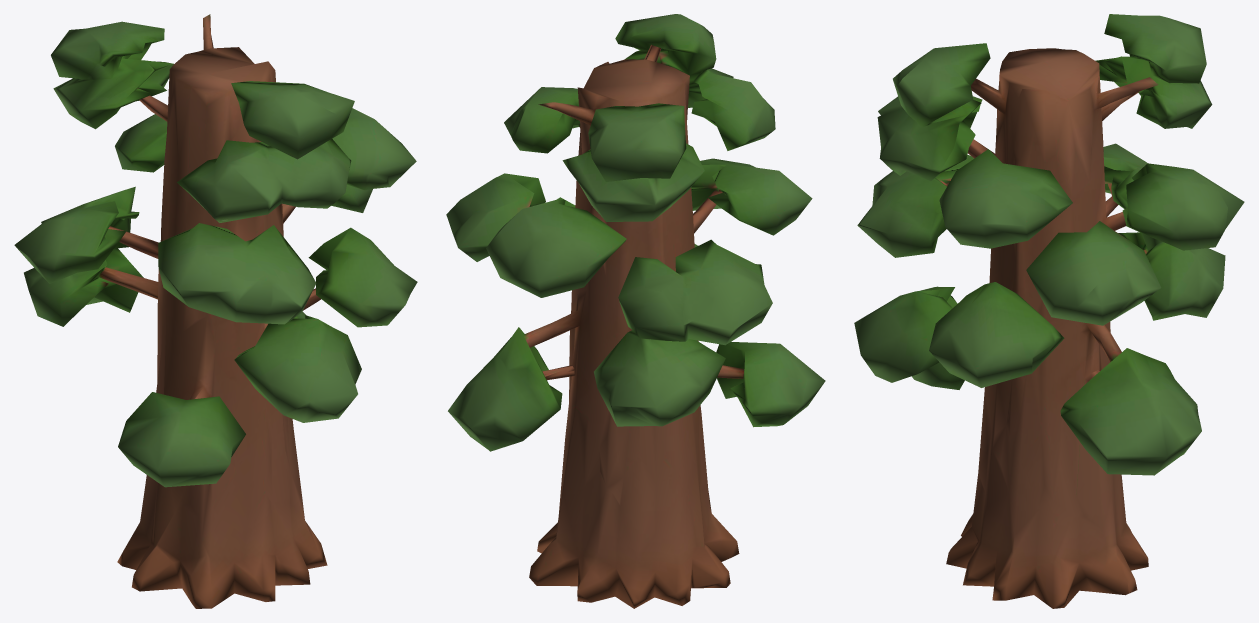
File: redwood.glb
3 views of the same model, side by side, from view 1: azimuth 30°, elevation 25°; view 2: azimuth 150°, elevation 25°; view 3: azimuth 270°, elevation 25° (orthographic).
Parts seen in each view (by area): view 1: tripo_node_cb893c08-b08f-4cb8-ab83-8c1b0ee98743; view 2: tripo_node_cb893c08-b08f-4cb8-ab83-8c1b0ee98743; view 3: tripo_node_cb893c08-b08f-4cb8-ab83-8c1b0ee98743.
Part boxes in pixels (box(x1,y1,x2,y2)): tripo_node_cb893c08-b08f-4cb8-ab83-8c1b0ee98743: box(14, 14, 417, 608); tripo_node_cb893c08-b08f-4cb8-ab83-8c1b0ee98743: box(446, 14, 825, 608); tripo_node_cb893c08-b08f-4cb8-ab83-8c1b0ee98743: box(854, 14, 1244, 608).
Size of the model in its own units: 0.6727 by 1 by 0.6911.
1 material, 1 textured.
